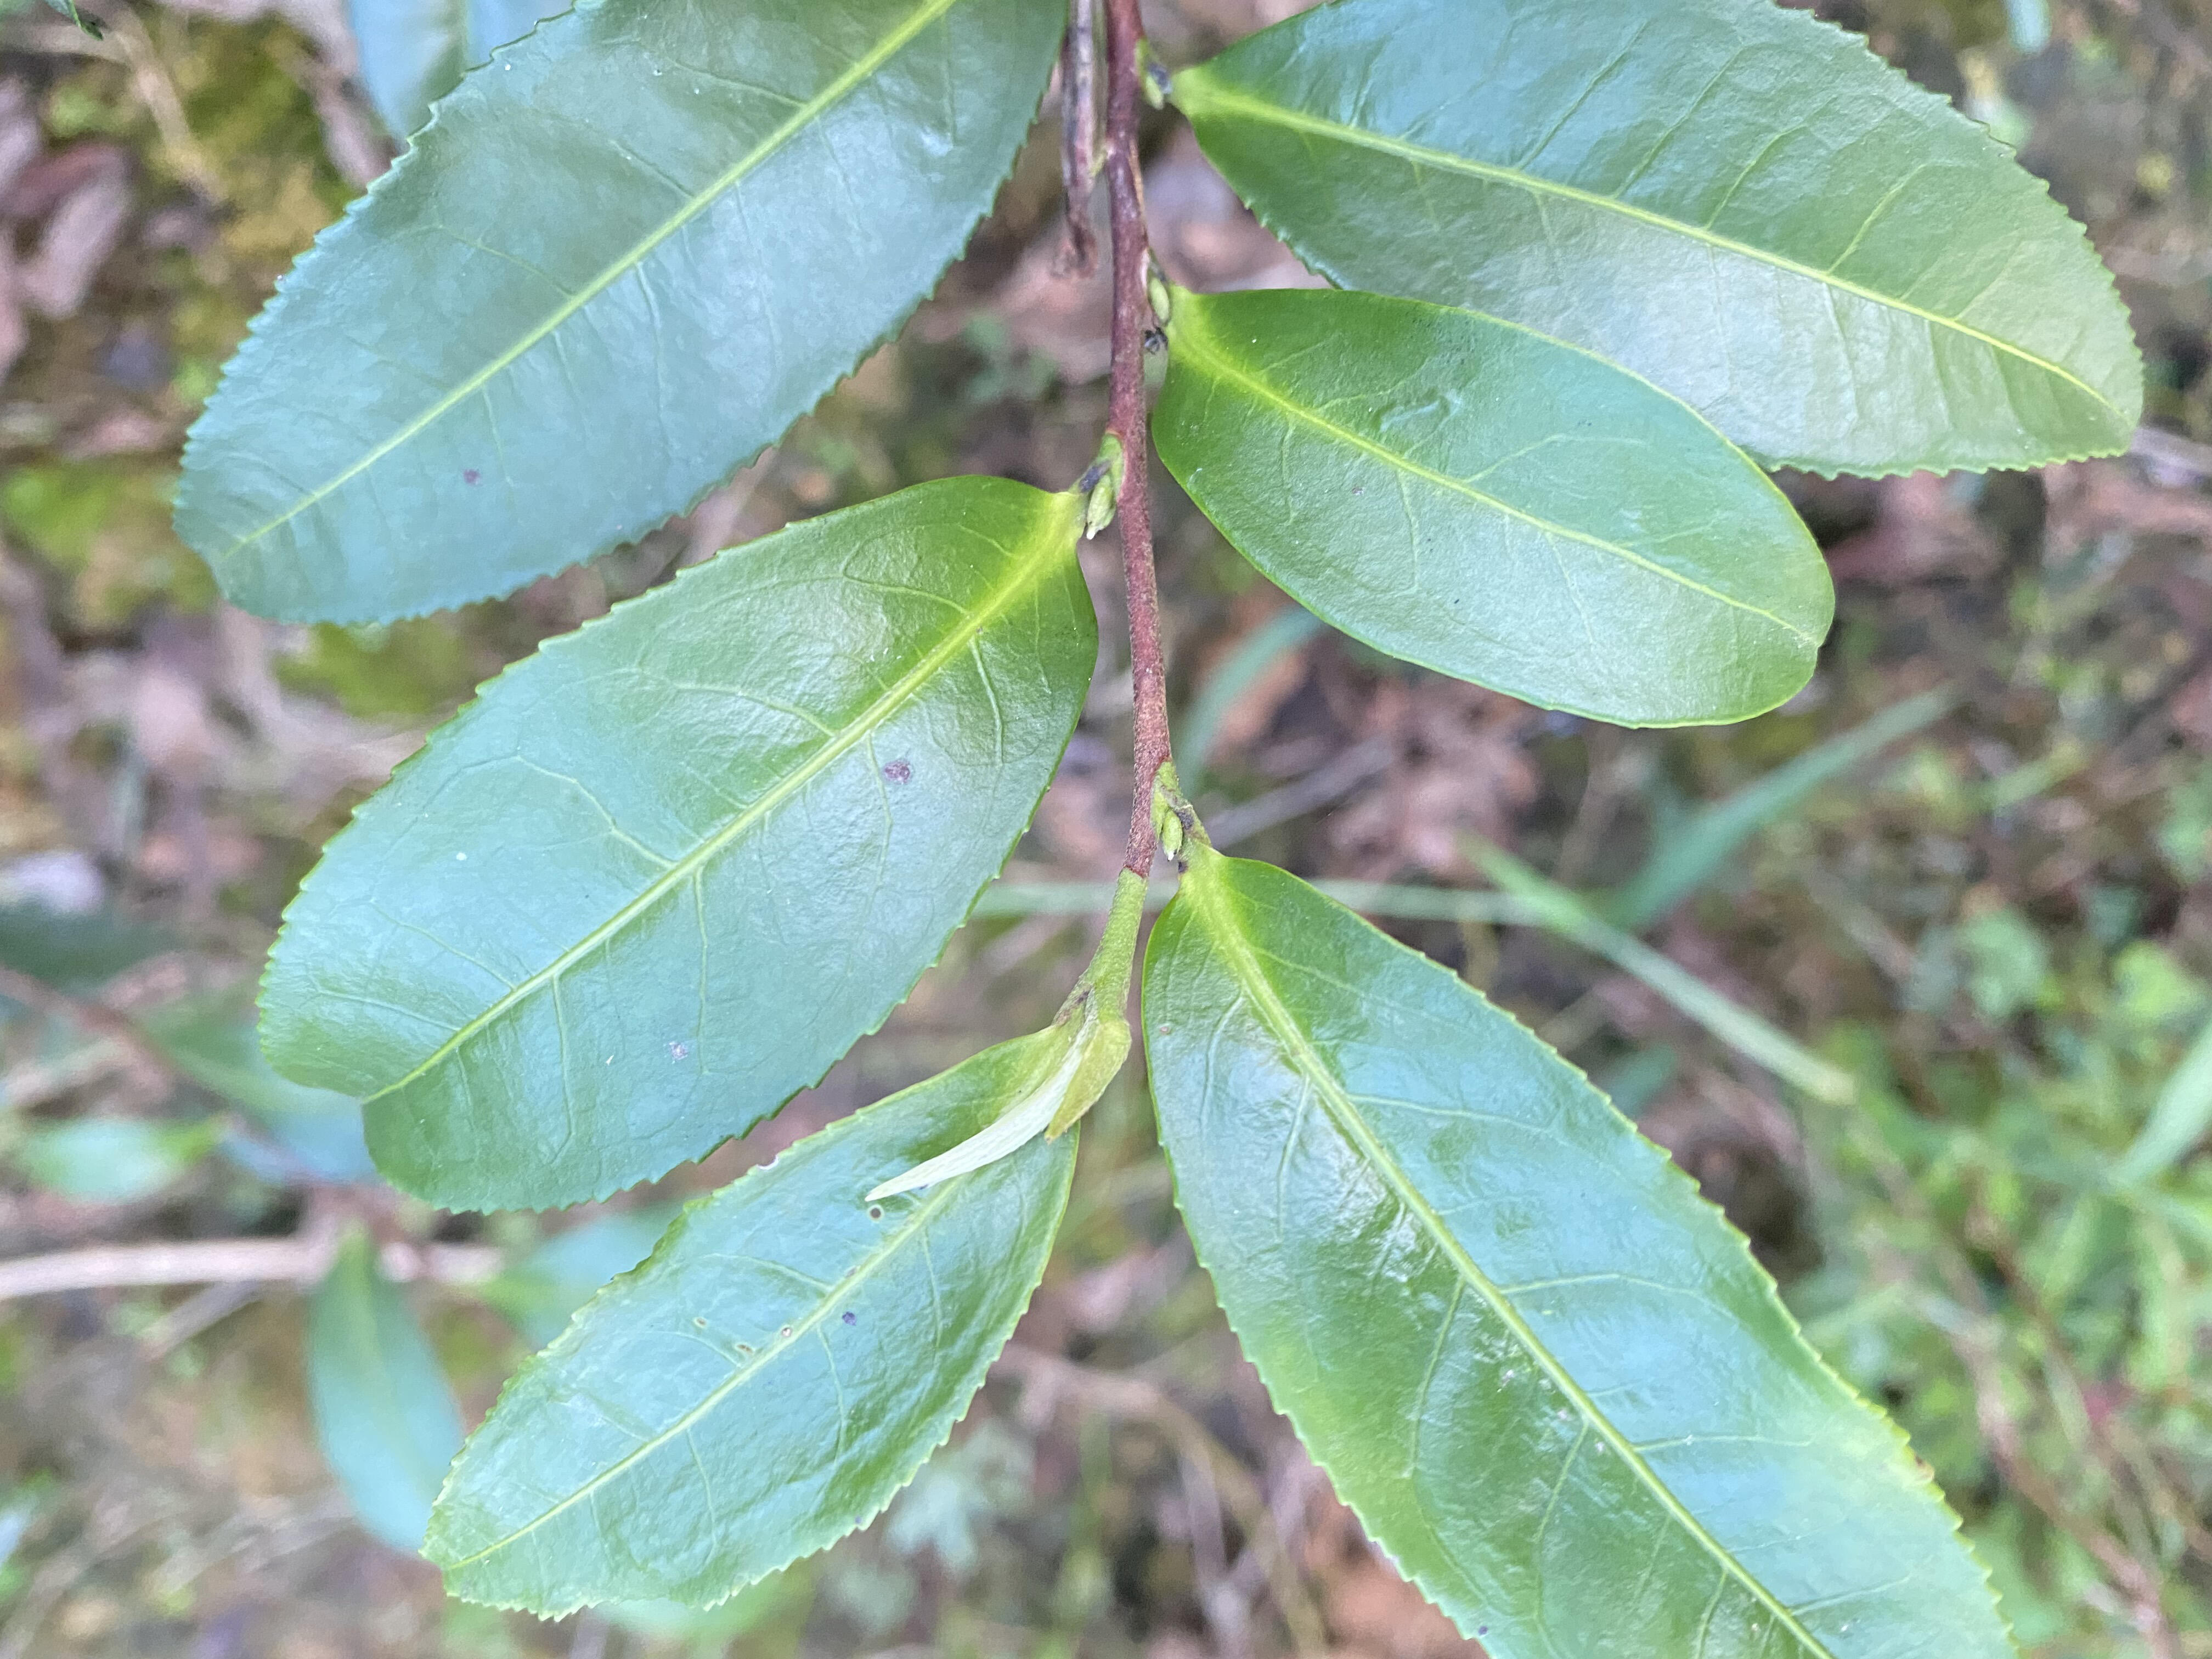healthy: (1141, 852, 2017, 1656), (1179, 2, 2149, 481), (1151, 288, 1841, 735)
tanju_low: (253, 472, 1101, 1218), (164, 2, 1069, 624), (420, 1026, 1083, 1621)
